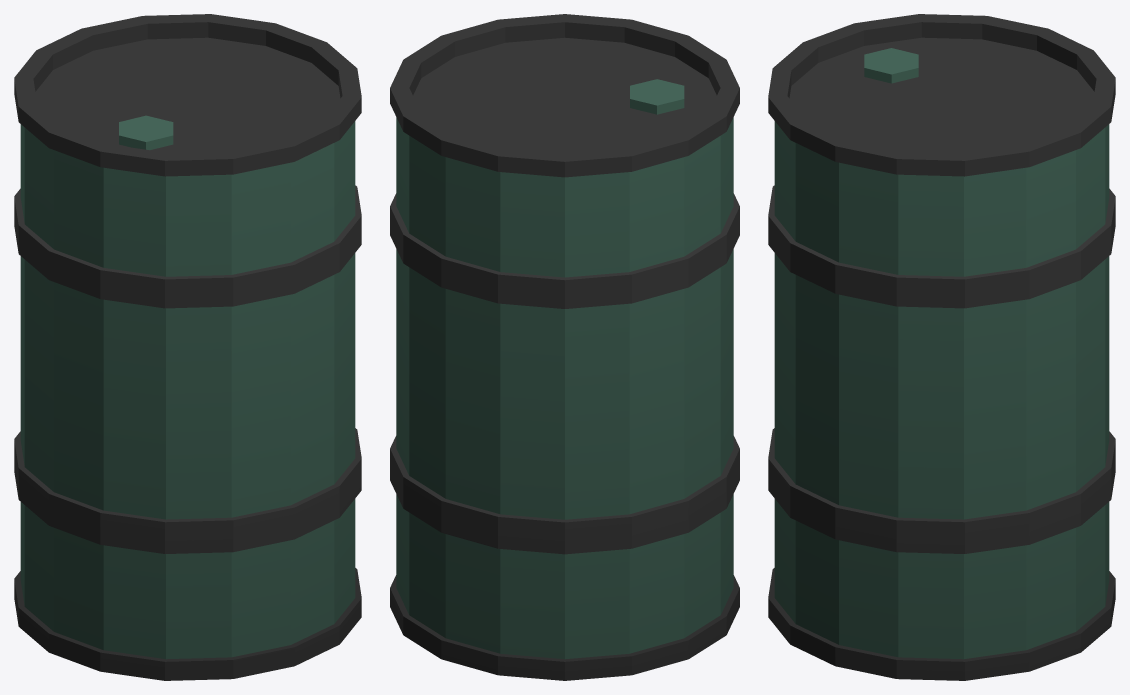
File: city_drum.glb
The picture shows the model from 3 angles, left to right: view 1: azimuth 30°, elevation 25°; view 2: azimuth 150°, elevation 25°; view 3: azimuth 270°, elevation 25°; orthographic projection.
Parts seen in each view (by area): view 1: city_drum; view 2: city_drum; view 3: city_drum.
Boxes of the visible parts, left/top/right/bottom form: city_drum: left=14, top=14, right=361, bottom=680; city_drum: left=390, top=14, right=739, bottom=680; city_drum: left=768, top=14, right=1115, bottom=680.
Bounding box in the file's own units: 0.5559 × 0.9177 × 0.5559.
Materials: 1 (1 with a texture image).
